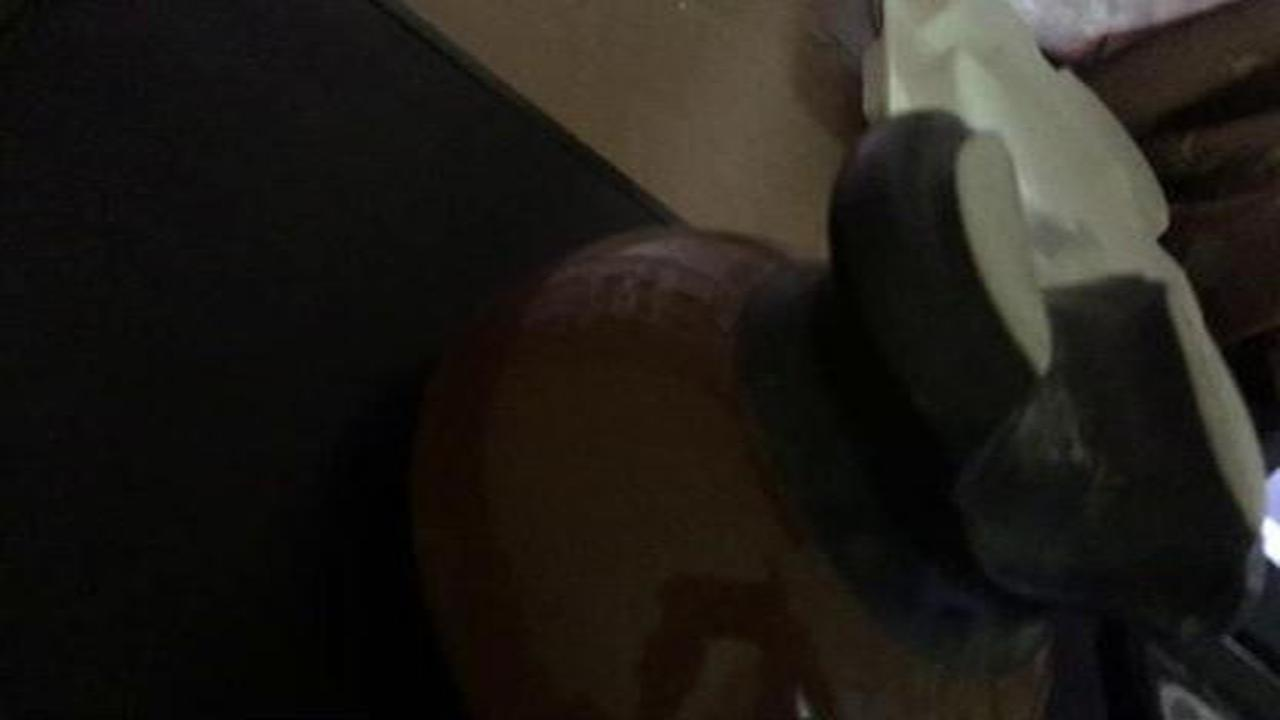insulator_pin: (388, 106, 1280, 714)
